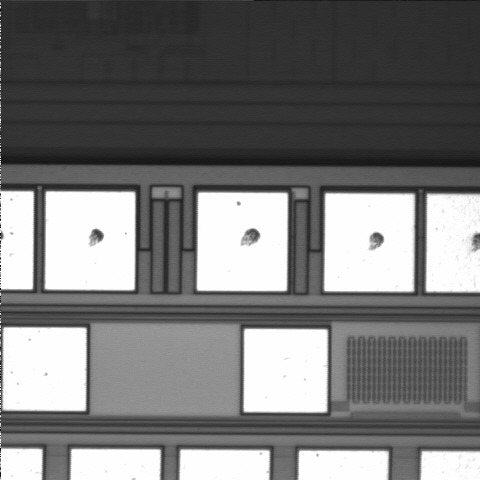pad: (197, 193, 288, 291), (324, 193, 414, 292), (45, 192, 135, 290), (3, 327, 86, 411), (244, 329, 328, 412)
